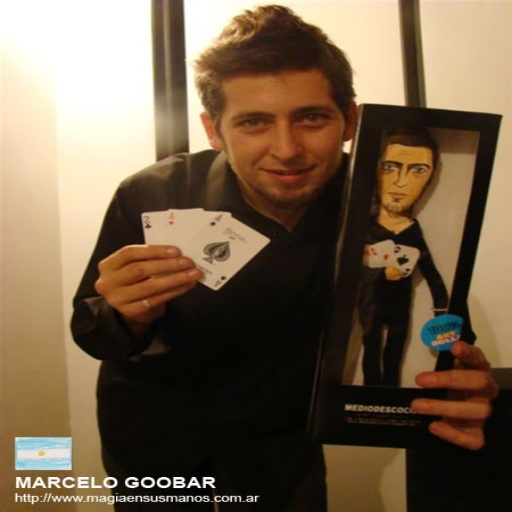hand: (409, 338, 501, 450), (80, 244, 209, 312), (382, 264, 403, 279)
